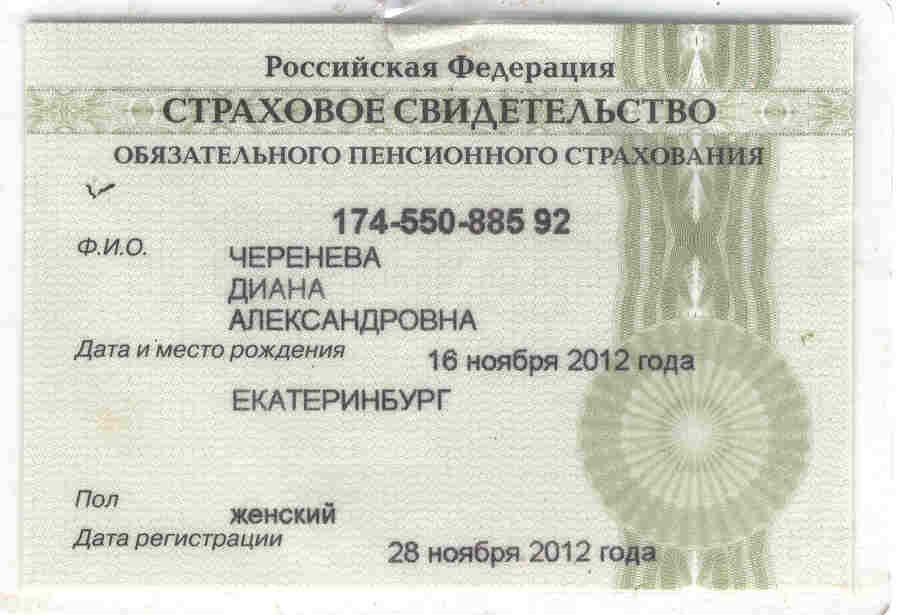text: (424, 342, 700, 381), (383, 533, 662, 571), (327, 200, 581, 240), (223, 304, 483, 339), (227, 379, 456, 418), (226, 239, 390, 274), (223, 271, 331, 305), (229, 500, 344, 528)
